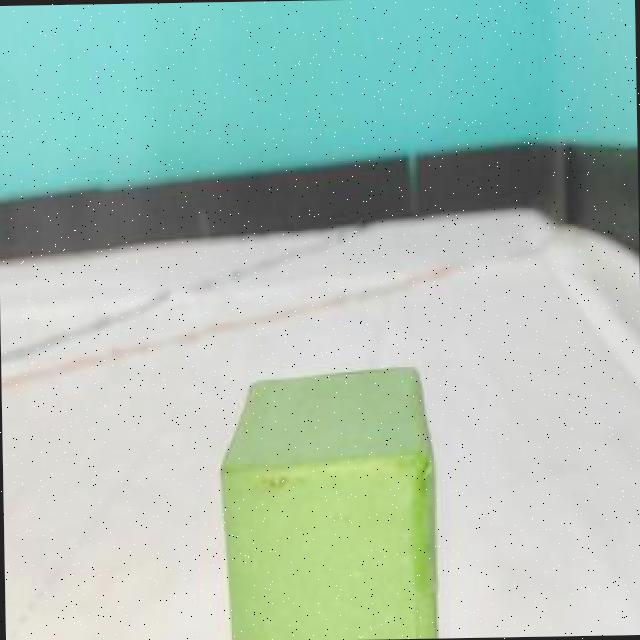greenbox: (211, 357, 442, 640)
